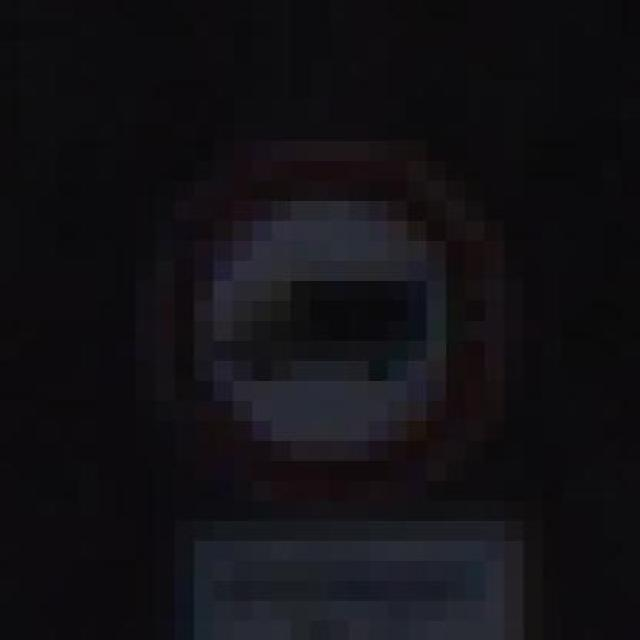Truck traffic is prohibited: (102, 102, 529, 522)
